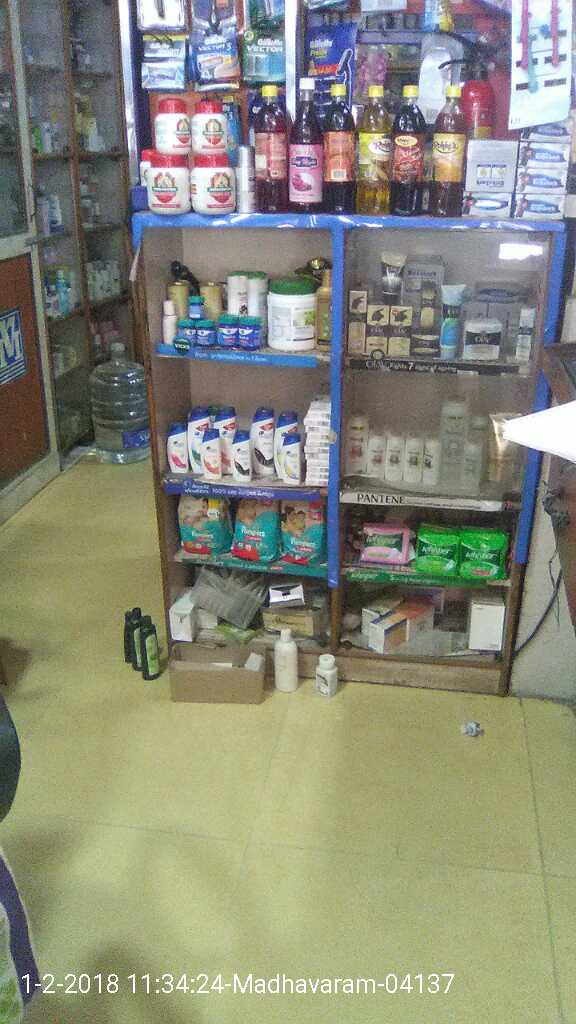vicks: (167, 285, 264, 349)
